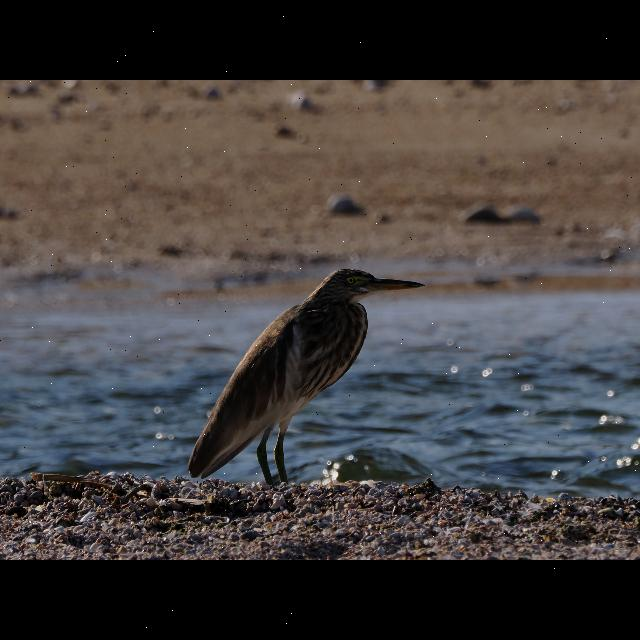heron: (189, 265, 423, 477)
